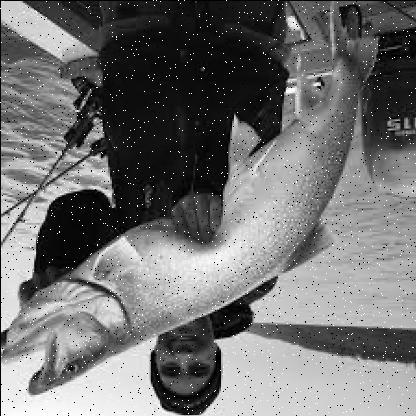fish: (2, 2, 378, 398)
